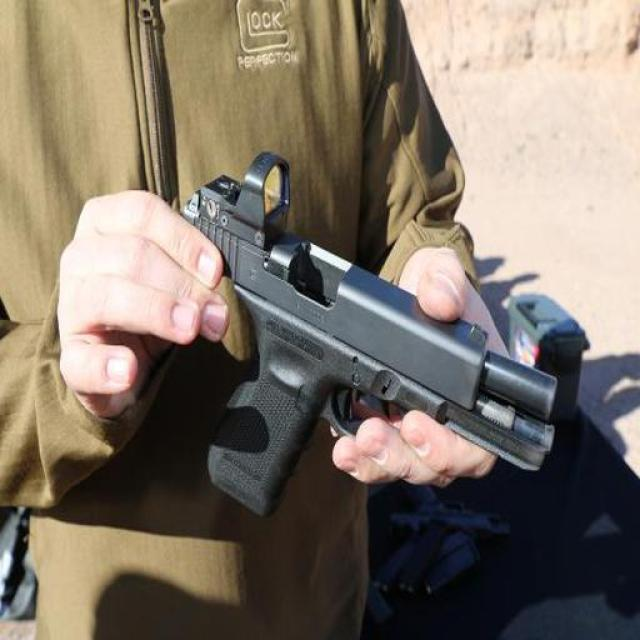pistol: (151, 124, 561, 518)
